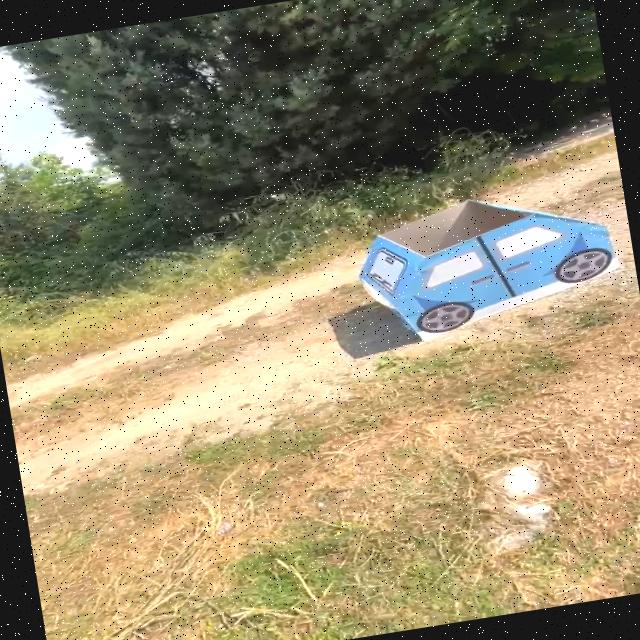blue_car: (329, 165, 640, 361)
